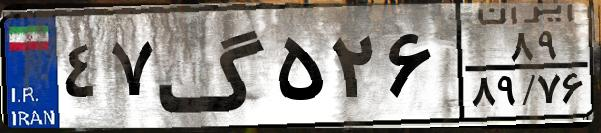2: (330, 28, 385, 110)
4: (57, 26, 110, 100)
5: (270, 28, 330, 110)
6: (385, 28, 445, 110), (560, 70, 590, 125)
7: (110, 28, 156, 98), (535, 70, 560, 125)
8: (508, 27, 537, 80), (470, 70, 495, 125)
9: (537, 27, 568, 80), (495, 70, 520, 125)
گ: (156, 12, 270, 120)
